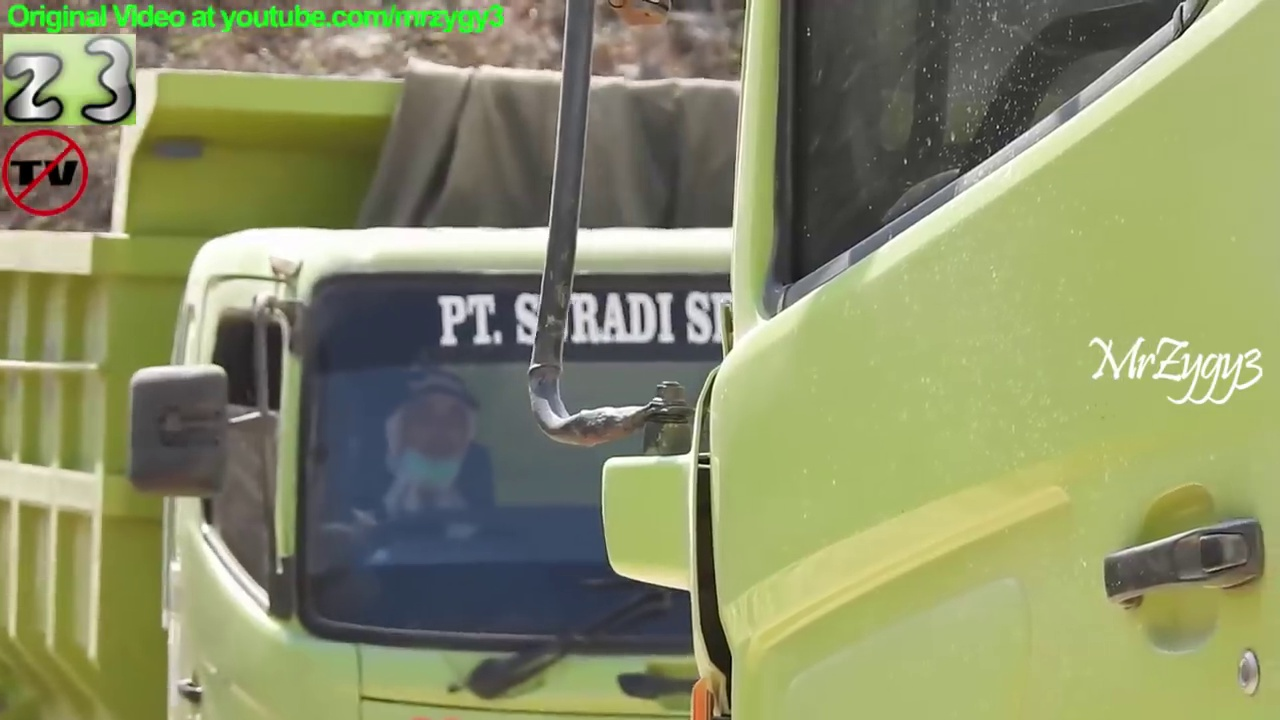truck: (1, 52, 1186, 720), (505, 1, 1280, 720)
